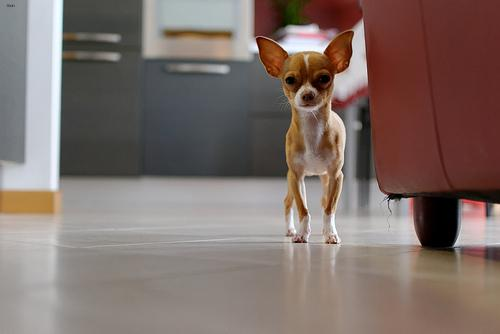dog-chihuahua: (254, 29, 353, 110)
